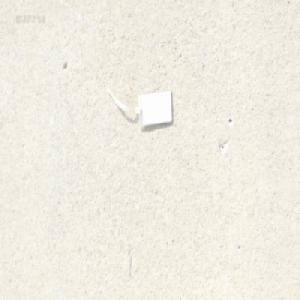LuggageTag: (105, 71, 176, 129)
